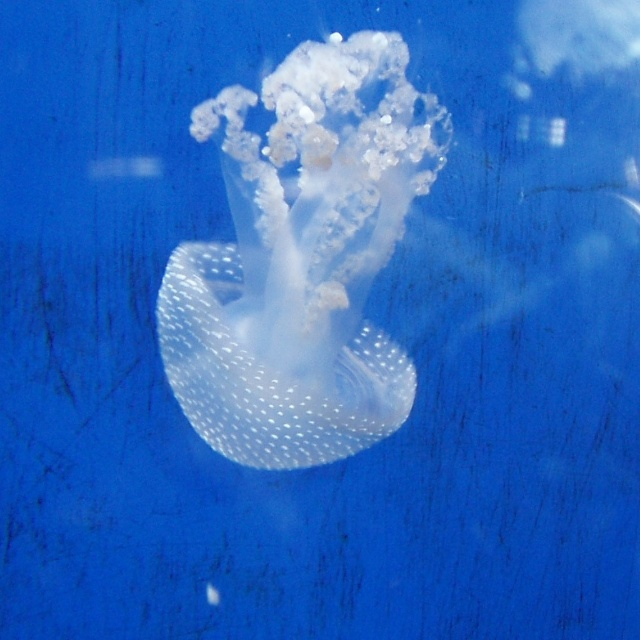Jellyfish: (152, 29, 454, 471)
